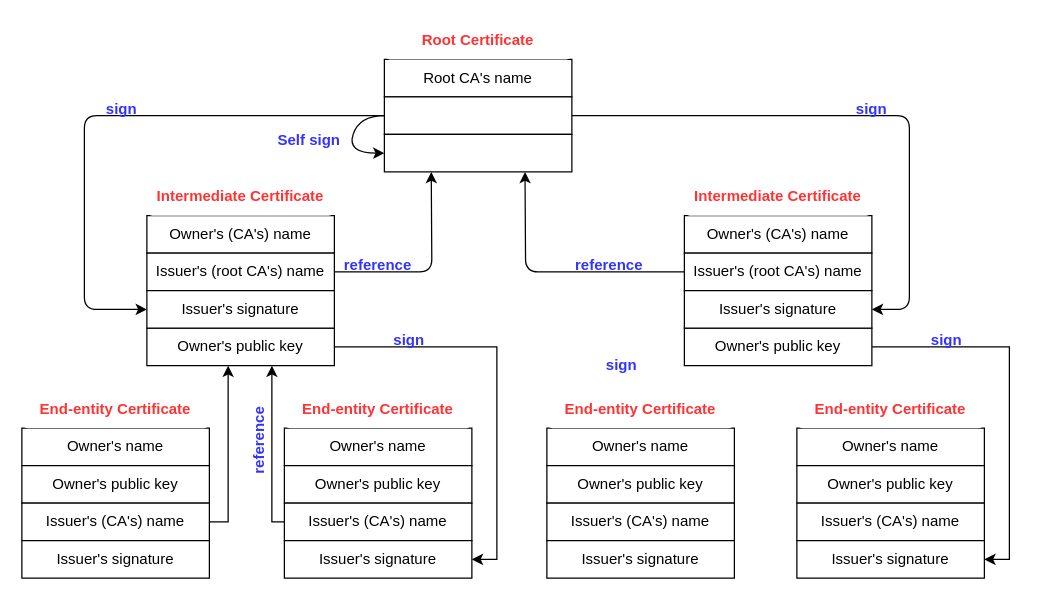
Image size: 1041x600. Some labels were removed from this diagram. Here are the shapes that lost their labels. From the top down, the centre of each, then its label:
point 477,115: Root CA's public key
point 477,152: Root CA's signature
